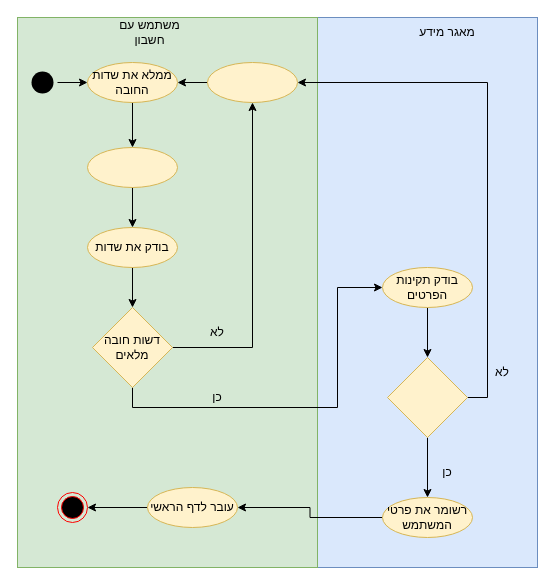
Image size: 555x585. Some labels were removed from this diagram. Here are the shapes that lost their labels. From the top down, the centre of each, then its label:
At (x=252, y=82): "מציג הודעת שגיא".
At (x=132, y=167): "לוחץ על כפתור התחברות".
At (x=427, y=397): "פרטי ההתחברות מאומתים".
